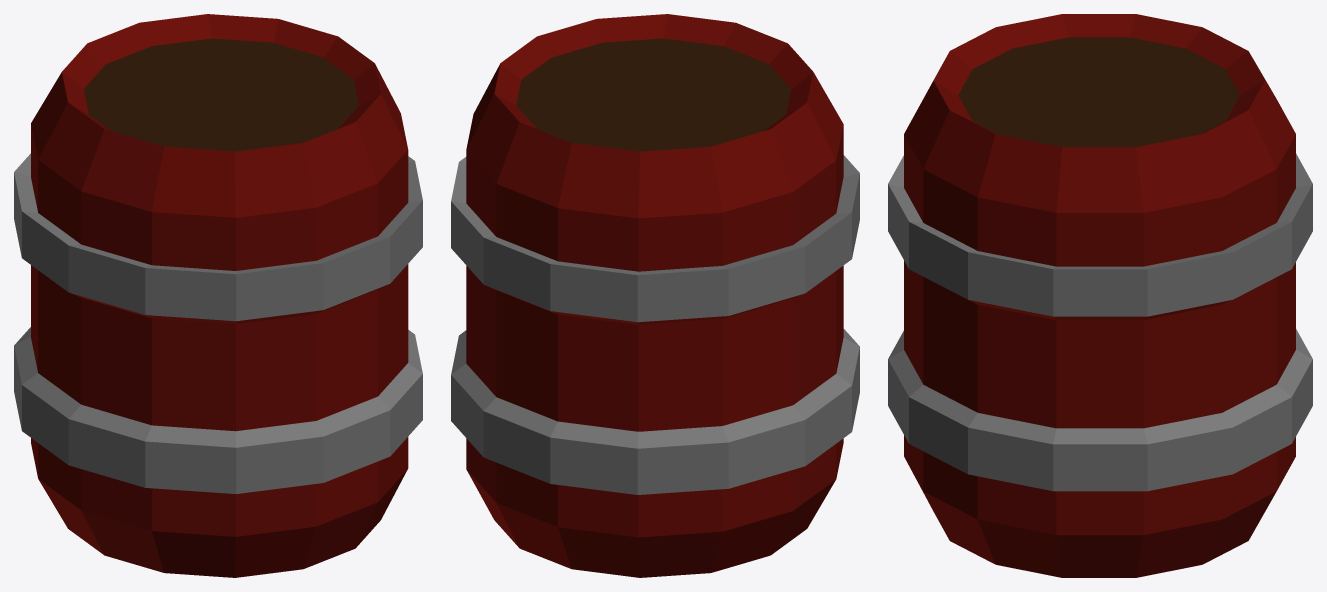
The model's file is explode.fbx.
3 renders of one model, left to right at view 1: azimuth 30°, elevation 25°; view 2: azimuth 150°, elevation 25°; view 3: azimuth 270°, elevation 25°, orthographic.
Parts seen in each view (by area): view 1: Cylinder; view 2: Cylinder; view 3: Cylinder.
Part boxes in pixels (bbox=[...]): Cylinder: bbox=[14, 14, 422, 577]; Cylinder: bbox=[451, 14, 859, 577]; Cylinder: bbox=[888, 14, 1312, 577].
Bounding box in the file's own units: 167 × 197 × 176.
